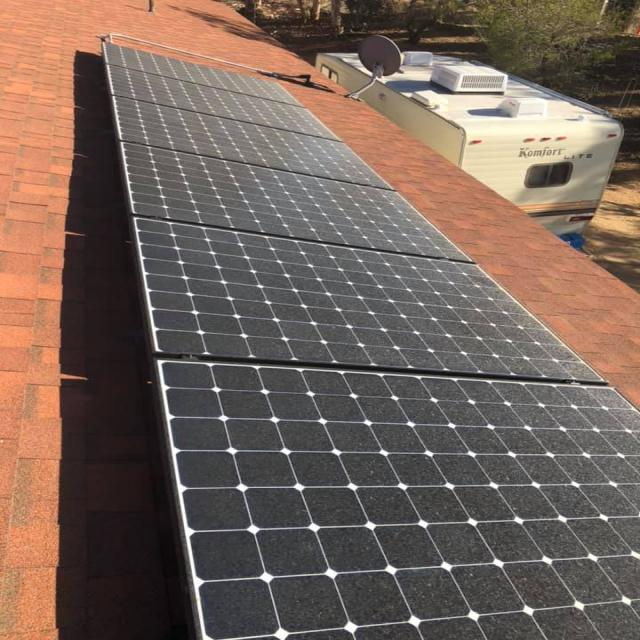dust-solar-panel: (103, 39, 640, 640)
